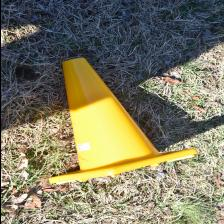cone: (48, 57, 198, 185)
